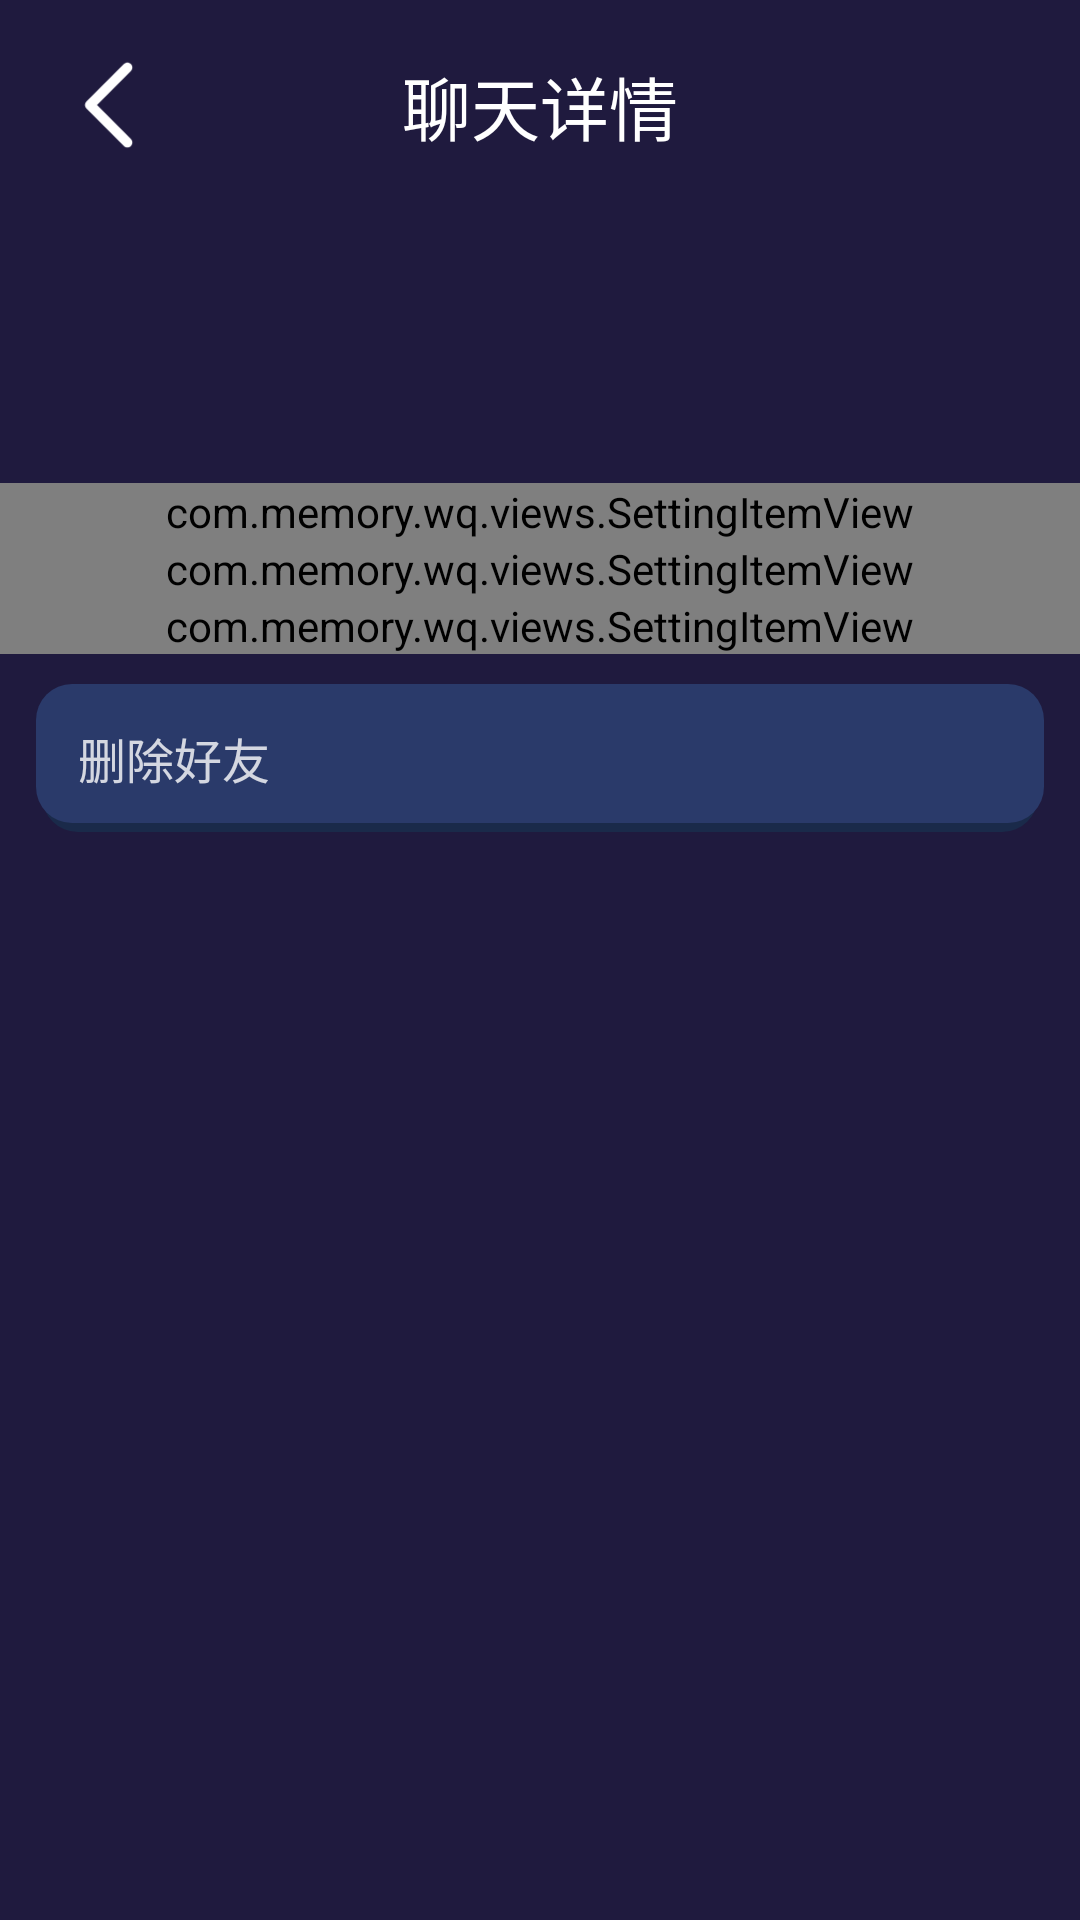

Icon bounding boxes for this 1080×1920 phone screenshot, format box=[x1, y1, x2, y2]:
back: box=[84, 62, 133, 148]
